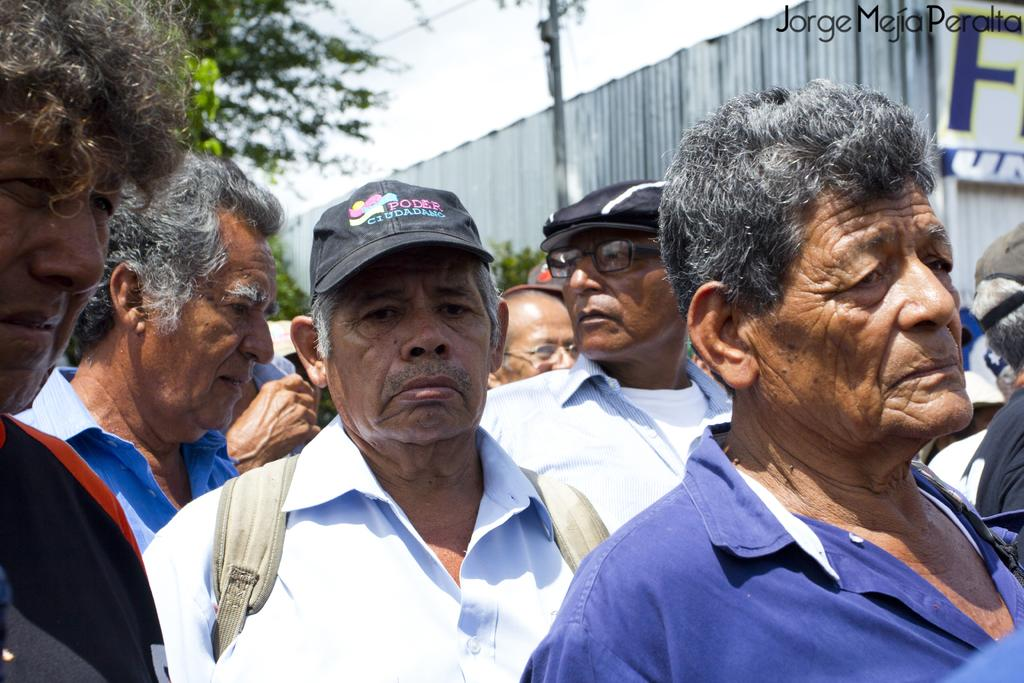Hat: (306, 168, 495, 298), (539, 177, 669, 248), (526, 262, 560, 290)
